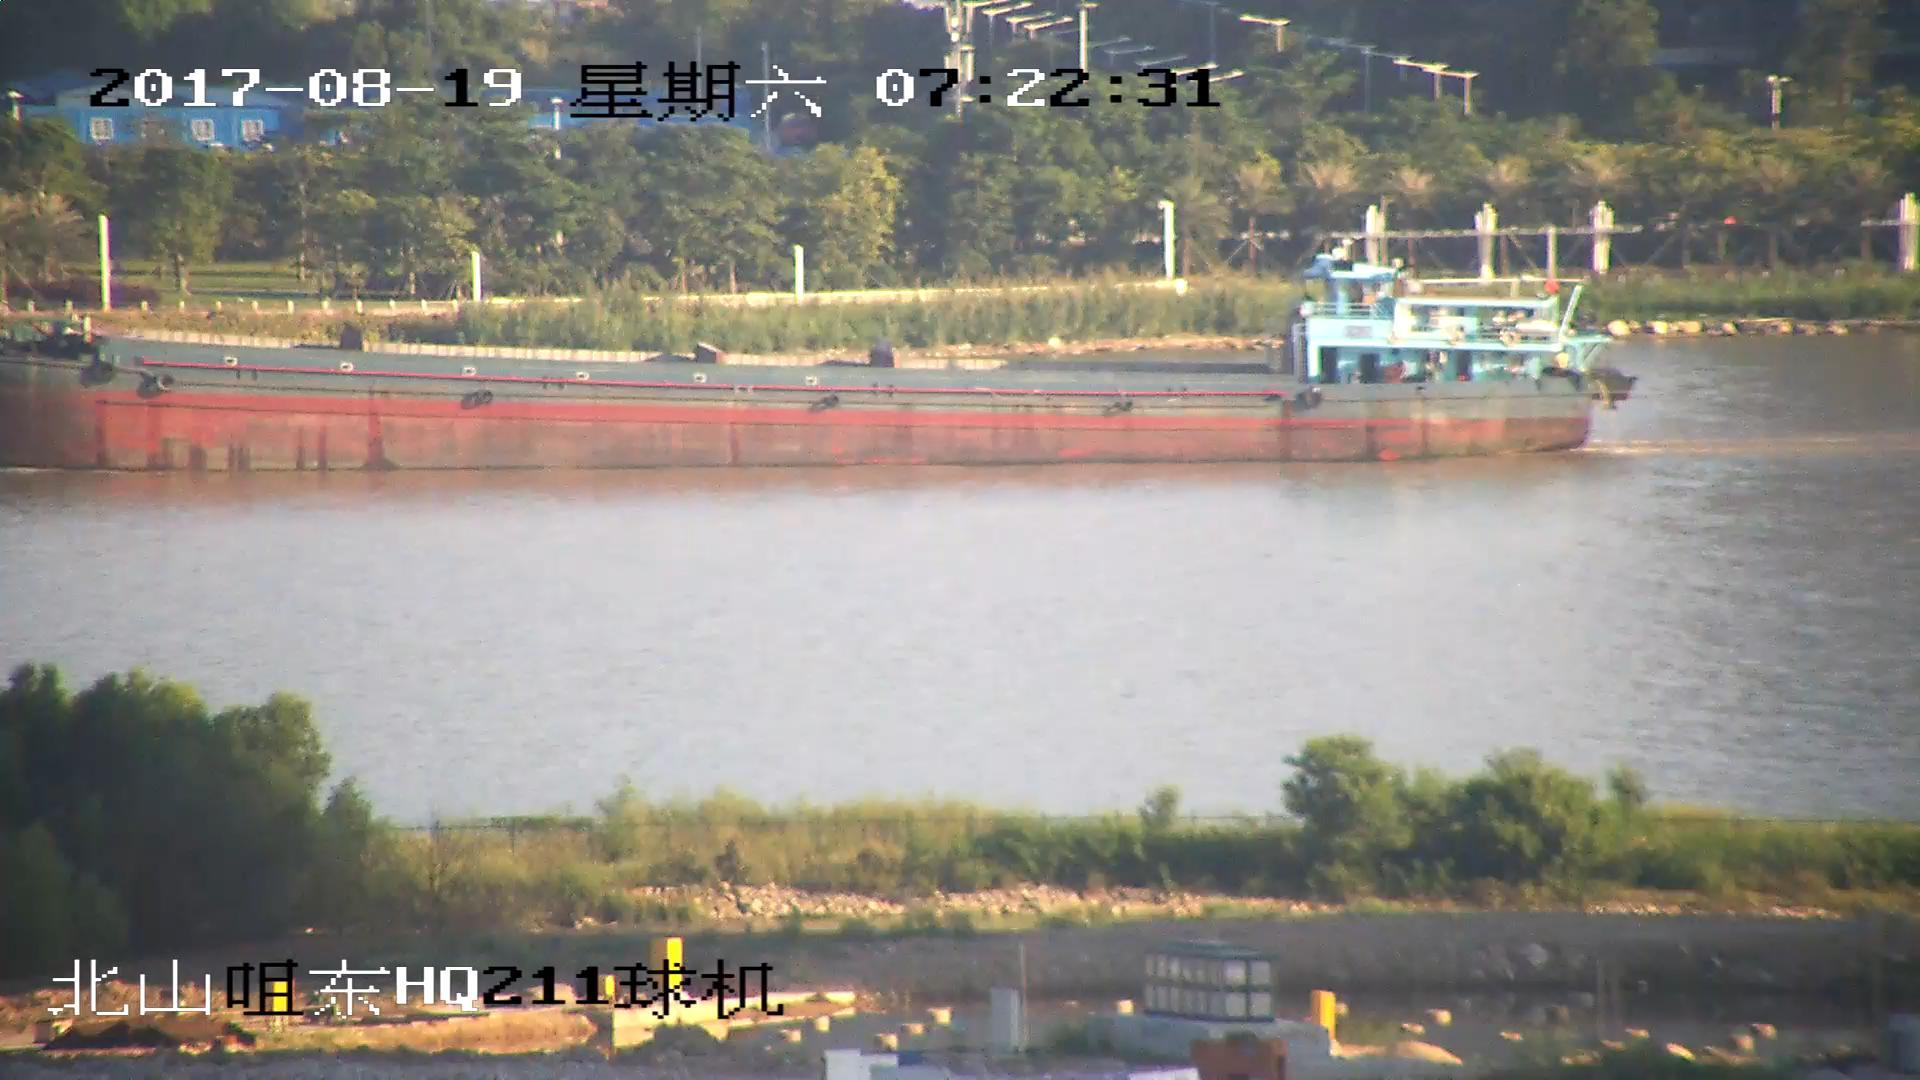Ship: (3, 247, 1629, 473)
